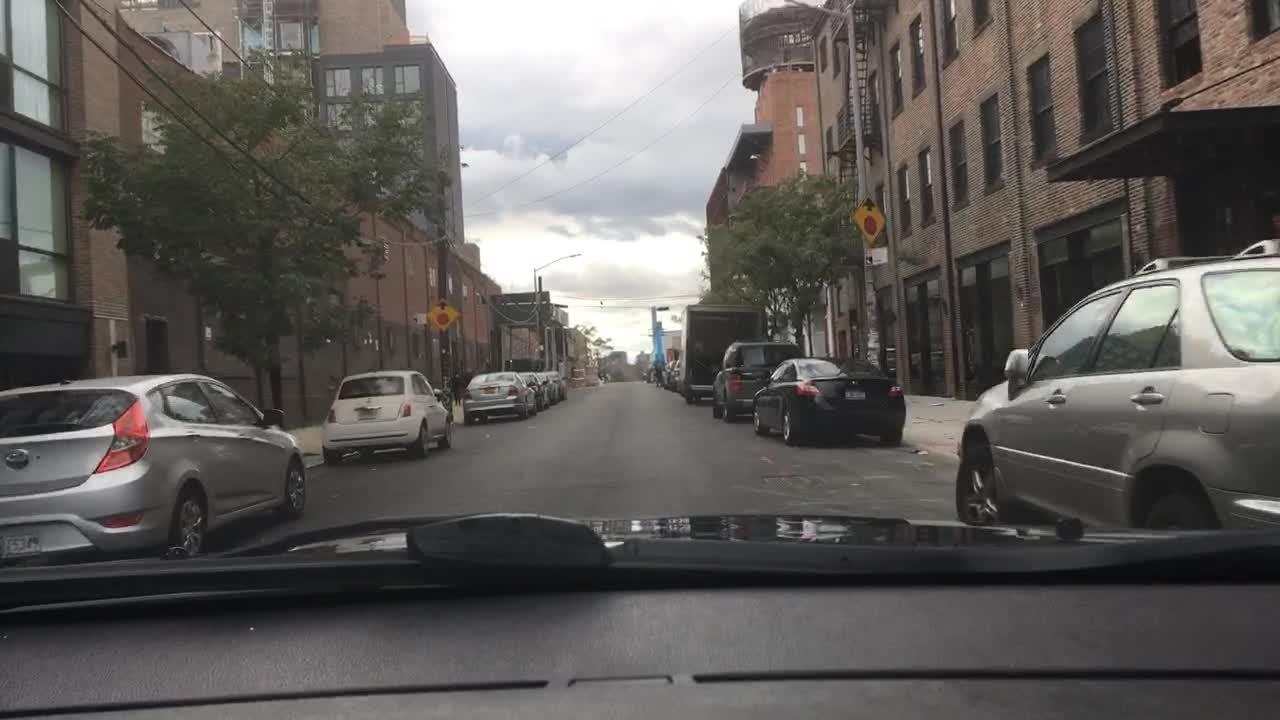Hyundai: (3, 447, 34, 465)
